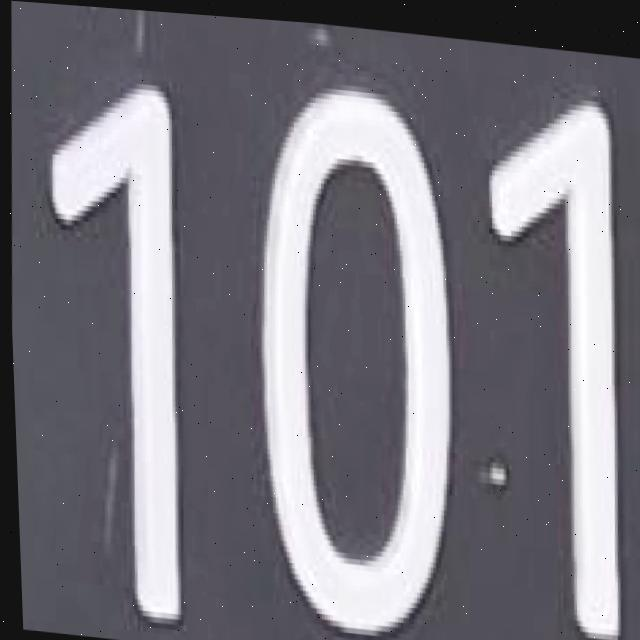character: (230, 68, 479, 640), (24, 56, 214, 640), (465, 77, 640, 640)
